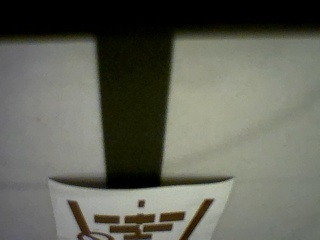Clearing_Zone: (64, 198, 215, 240)
